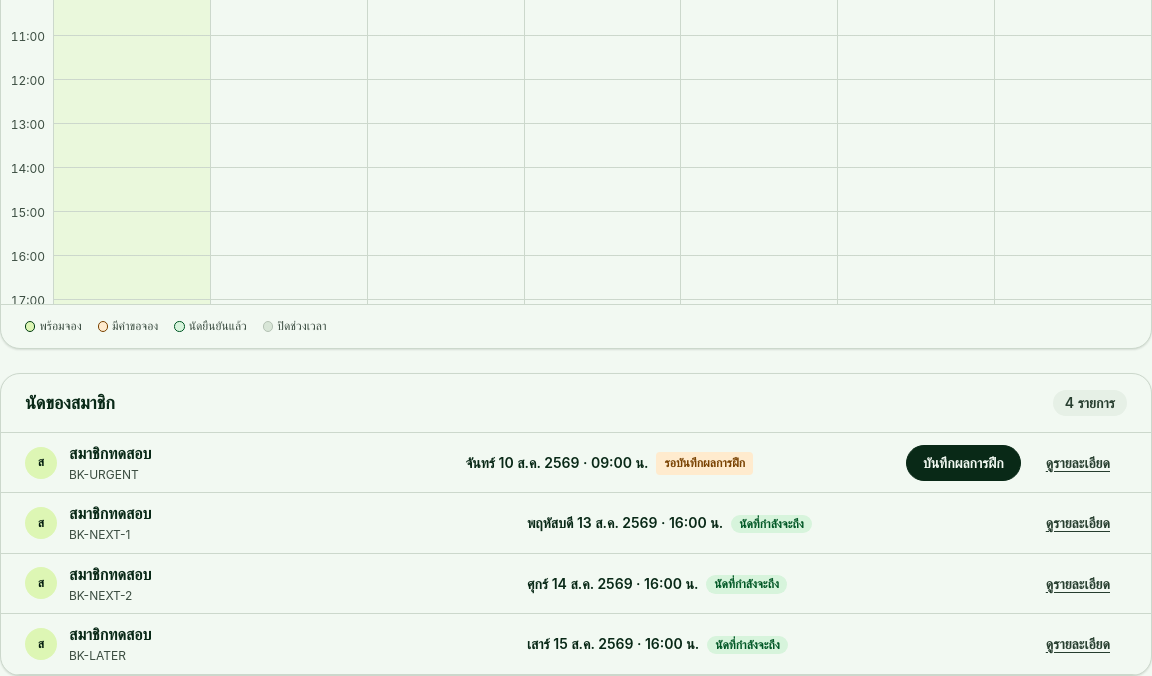
Test: TrainerWorkbench › keeps the actionable appointment first in the one list
This screenshot has width=1152, height=676.
(page scrolled)
Expected: the heading "นัดของสมาชิก" is shown, [25,391,115,414]
Expected: the text "4 รายการ" is shown, [1053,390,1127,416]
Click the button "ดูรายละเอียด" in the row of "รอบันทึกผลการฝึก" at [1078, 463], box [1029,445,1127,481]
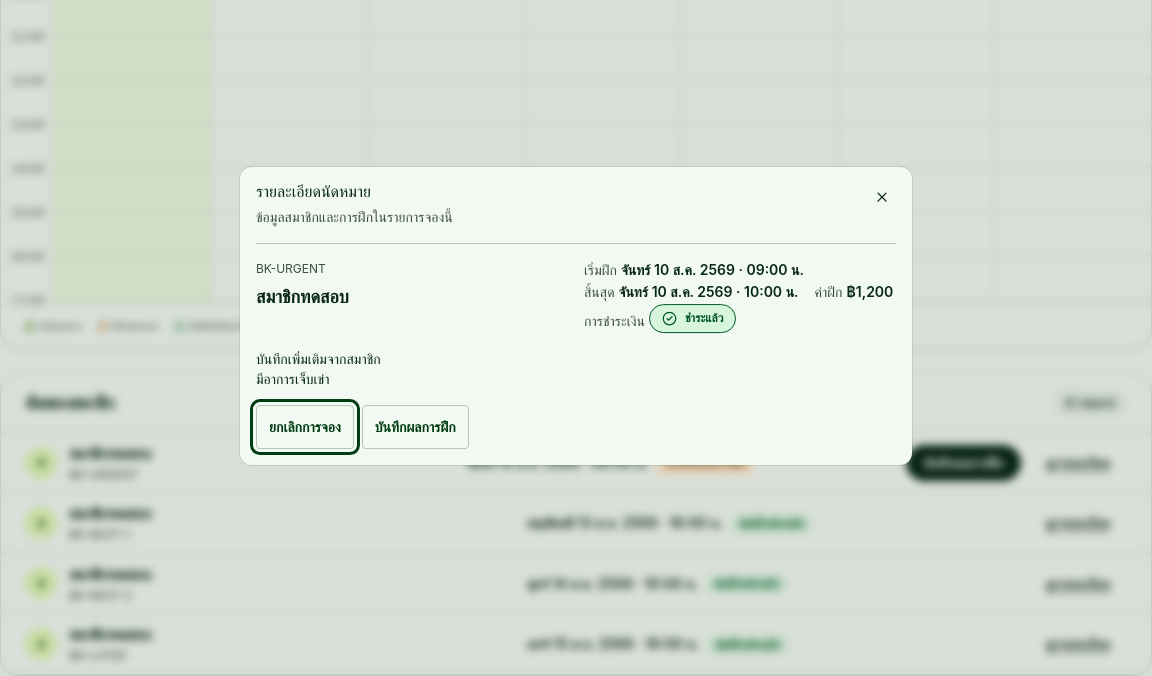
Now the dialog "รายละเอียดนัดหมาย" is shown, box [240,167,912,465]
